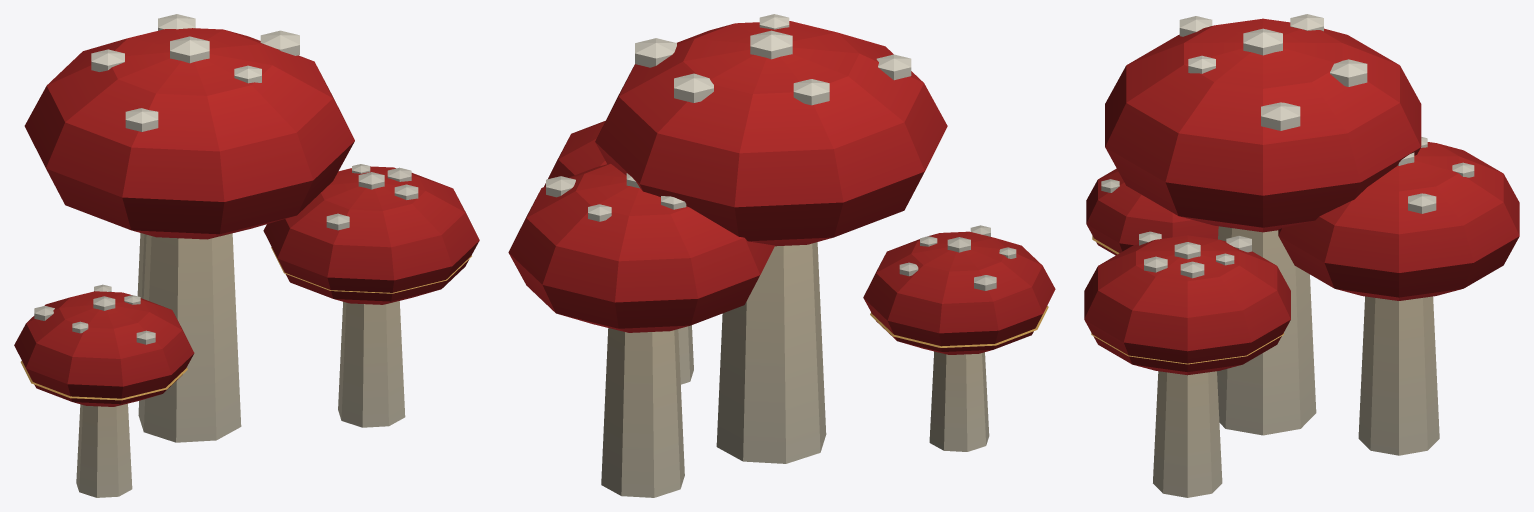
File: toadstool_cluster.glb
3 renders of one model, left to right at view 1: azimuth 30°, elevation 25°; view 2: azimuth 150°, elevation 25°; view 3: azimuth 270°, elevation 25°, orthographic. The views are drawn at different scales.
Visible parts, largest first — view 1: toadstool_cluster; view 2: toadstool_cluster; view 3: toadstool_cluster.
Part boxes in pixels (box(x1,y1,x2,y2)): toadstool_cluster: box(14, 14, 479, 497); toadstool_cluster: box(508, 14, 1055, 497); toadstool_cluster: box(1084, 14, 1519, 497).
Bounding box in the file's own units: 1.71 × 1.39 × 1.44.
